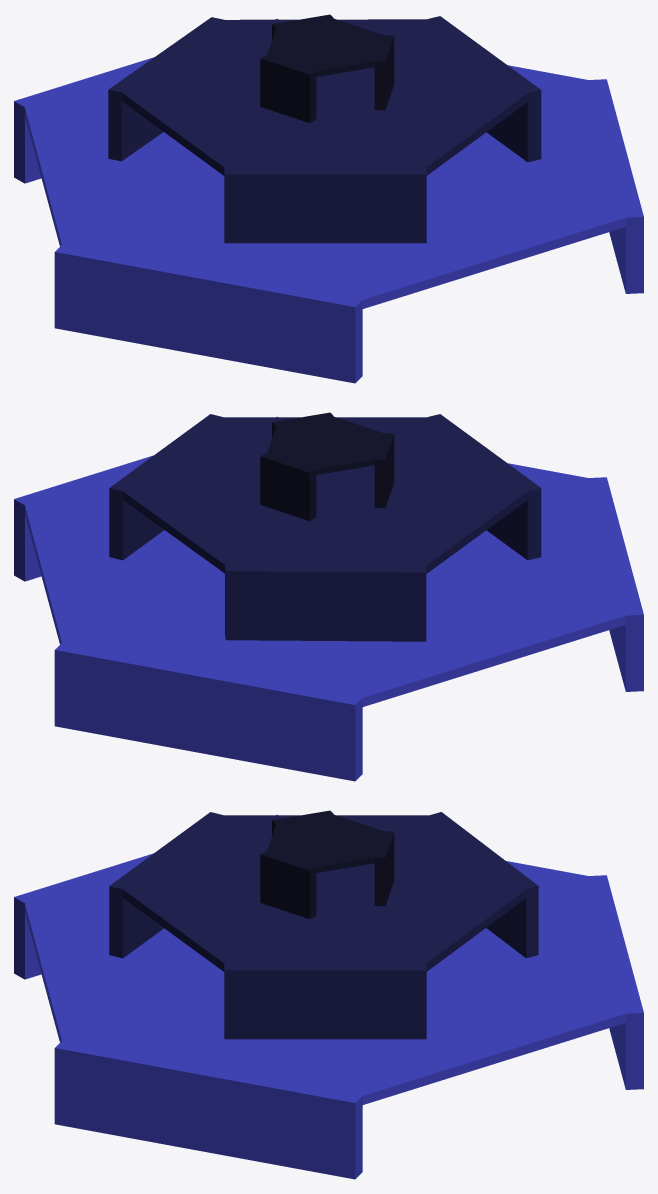
Rendered from platform.fbx.
3 views of the same model, one above another, from view 1: azimuth 30°, elevation 25°; view 2: azimuth 150°, elevation 25°; view 3: azimuth 270°, elevation 25° (orthographic).
Visible parts, largest first — view 1: Circle.002, Circle.001, Circle; view 2: Circle.002, Circle.001, Circle; view 3: Circle.002, Circle.001, Circle.
Part boxes in pixels (bbox=[...]): Circle.002: bbox=[14, 18, 643, 383]; Circle.001: bbox=[108, 16, 541, 243]; Circle: bbox=[260, 14, 394, 122]; Circle.002: bbox=[14, 416, 643, 781]; Circle.001: bbox=[109, 414, 541, 641]; Circle: bbox=[260, 412, 394, 520]; Circle.002: bbox=[14, 814, 643, 1179]; Circle.001: bbox=[109, 812, 538, 1039]; Circle: bbox=[260, 810, 394, 918].
Bounding box in the file's own units: 640 × 201 × 591.
